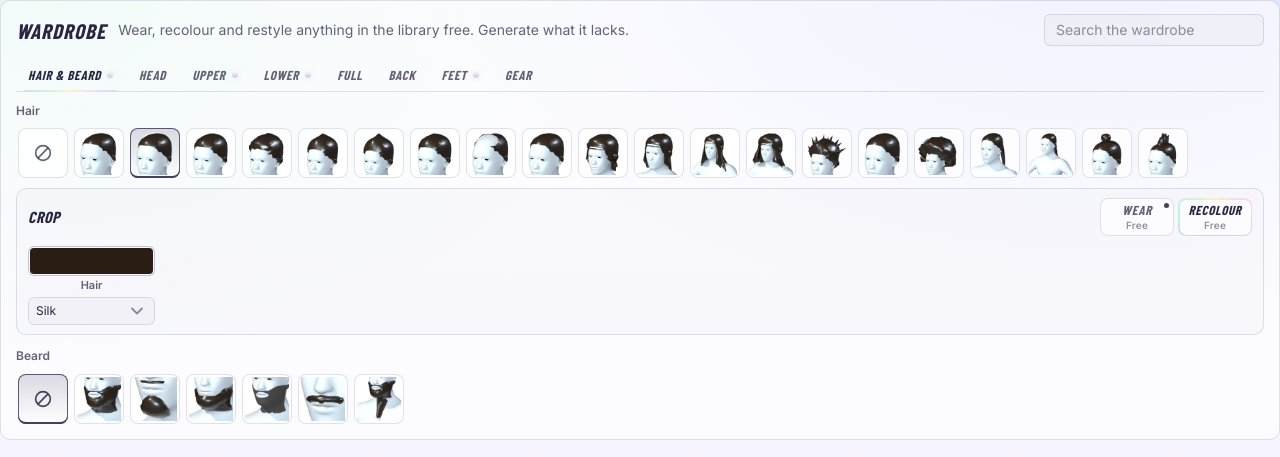
Scenario: the wardrobe › says so up front when generating isn't switched on, before asking for an email
Click the tab "Back" at (402, 75), box [376,58,427,92]
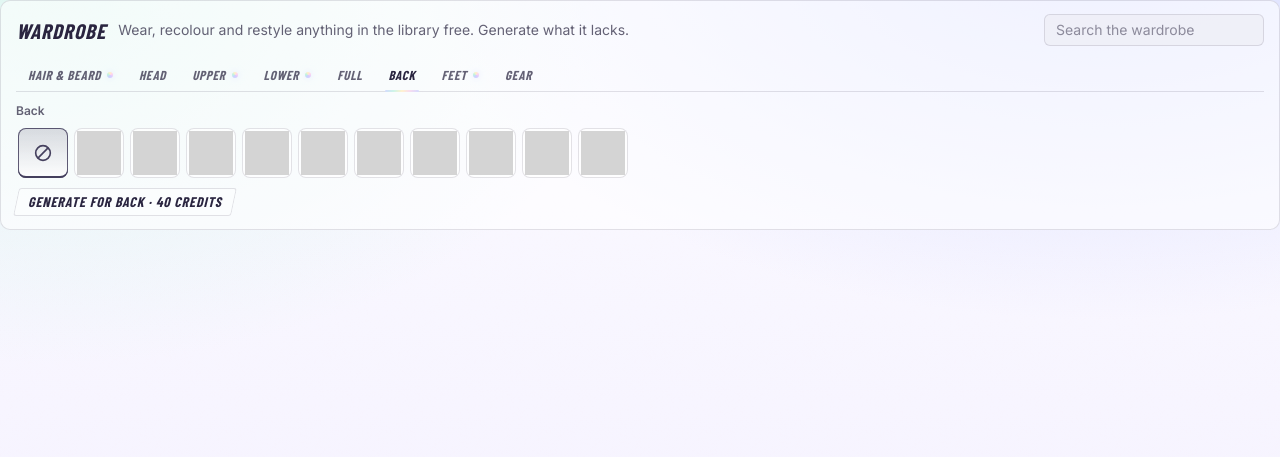
Click the button "Generate for back · 40 credits" at (125, 202), box [16,188,234,216]
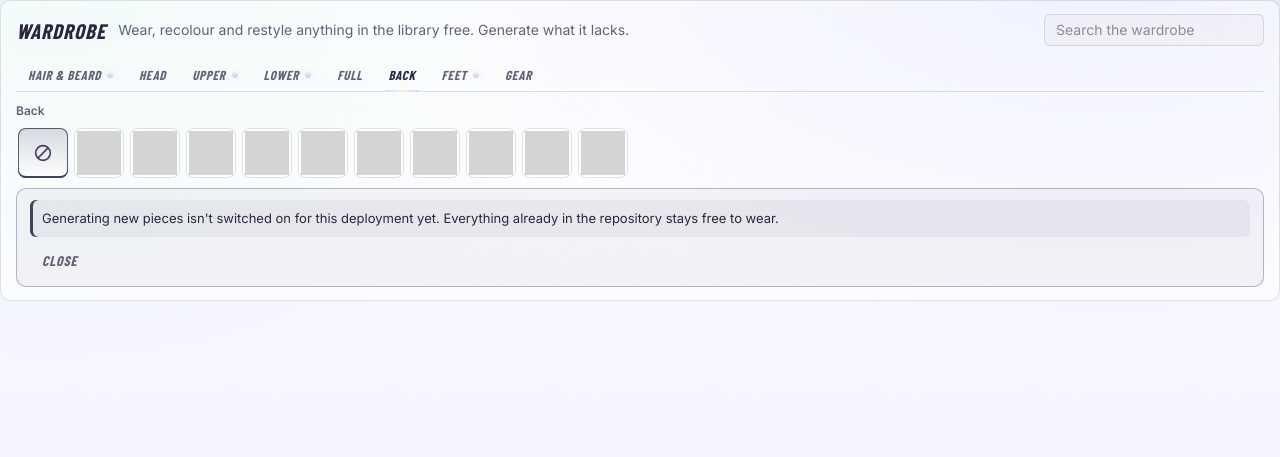
Expected: the text "isn't switched on for this deployment yet" is shown, [42,210,779,226]
